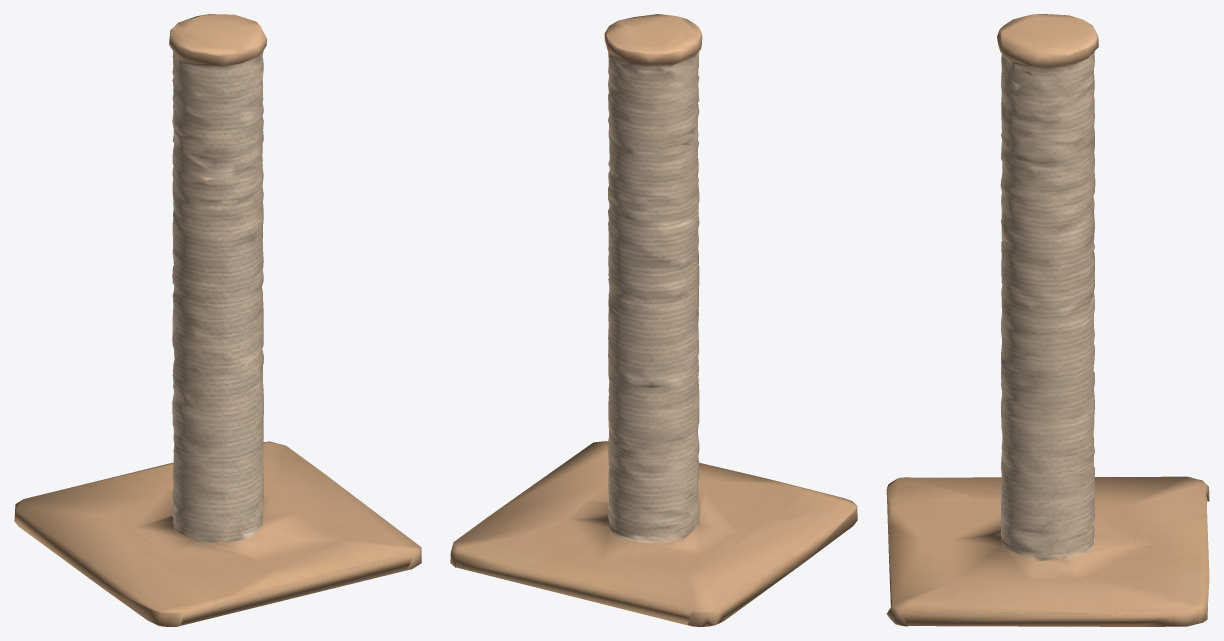
The model's file is Meshy_AI_Cat_scratching_post_0610213046_texture.fbx.
3 views of the same model, side by side, from view 1: azimuth 30°, elevation 25°; view 2: azimuth 150°, elevation 25°; view 3: azimuth 270°, elevation 25° (orthographic). The views are drawn at different scales.
Visible parts, largest first — view 1: Mesh_0; view 2: Mesh_0; view 3: Mesh_0.
Boxes of the visible parts, bbox=[...] form: Mesh_0: bbox=[14, 14, 421, 626]; Mesh_0: bbox=[450, 14, 857, 626]; Mesh_0: bbox=[886, 14, 1209, 626].
Bounding box in the file's own units: 106 × 191 × 106.
Materials: 1 (1 with a texture image).
